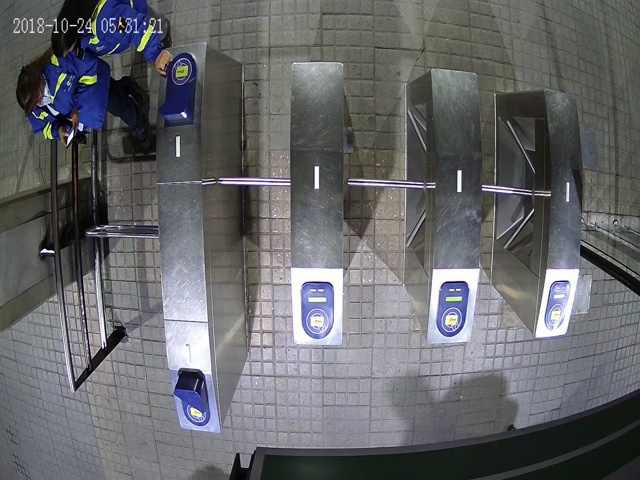Chaleco_azul: (16, 45, 150, 143), (51, 1, 172, 77)
